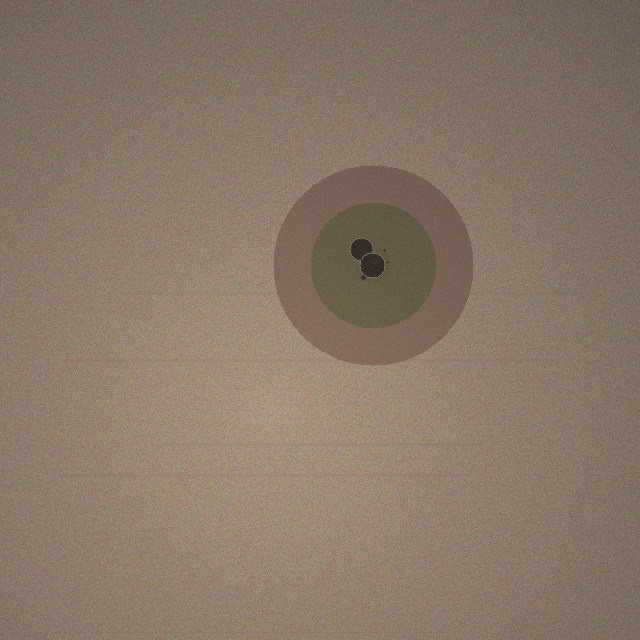shrinkage: (273, 165, 473, 365)
